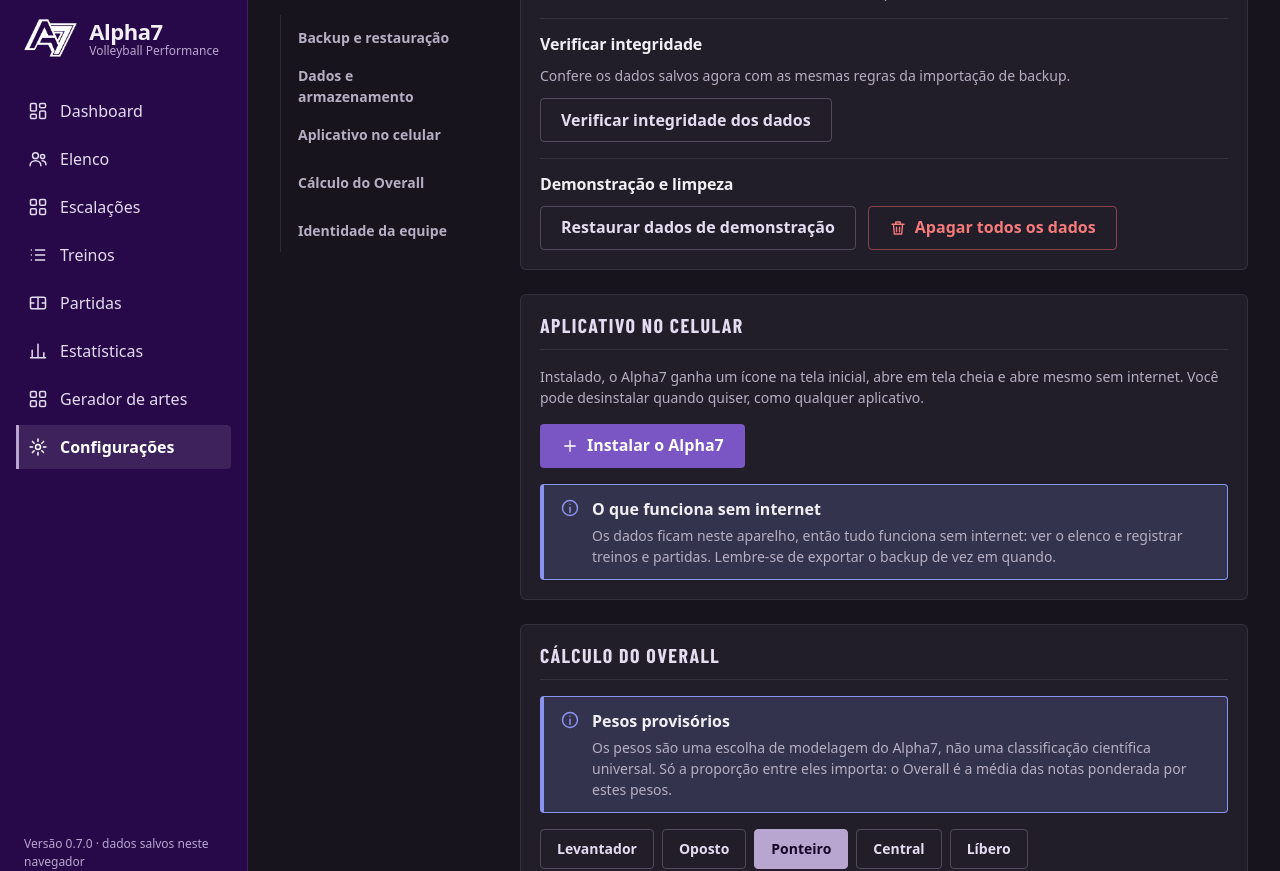
Configurações: aplicativo no celular › se a pessoa recusar, não insiste: só avisa que a opção continua aqui
(page scrolled)
Check: the heading "Aplicativo no celular" is shown, box top-left (540, 314), bottom-right (744, 337)
Click the button "Instalar o Alpha7" at (642, 446), box top-left (540, 424), bottom-right (745, 468)
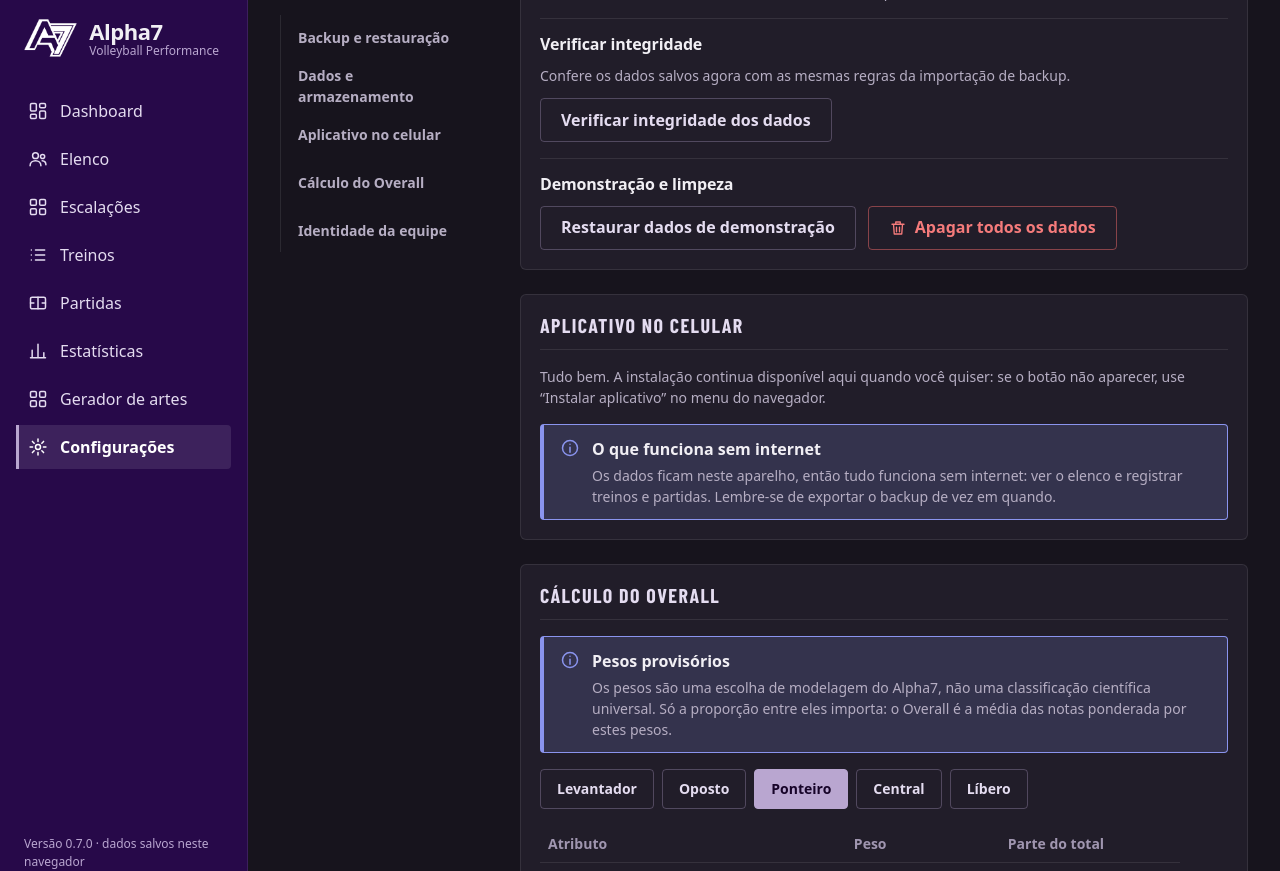
Check: the text "A instalação continua disponível aqui" is shown, box top-left (540, 367), bottom-right (1185, 407)
